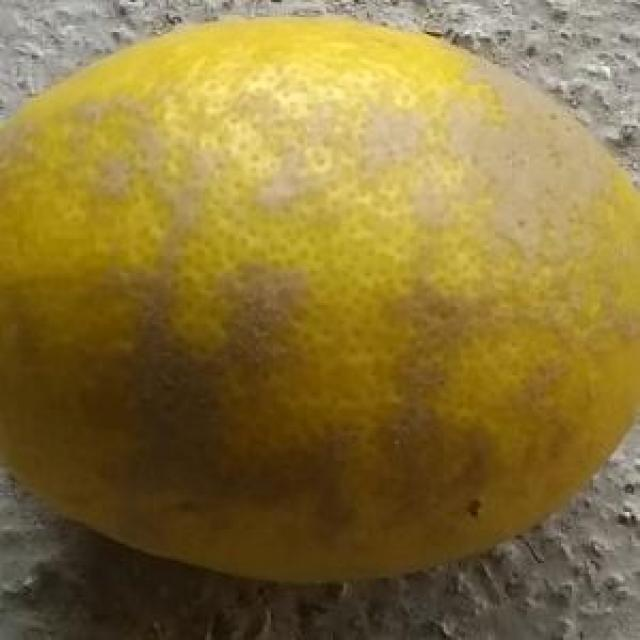lemon: (1, 17, 640, 590)
